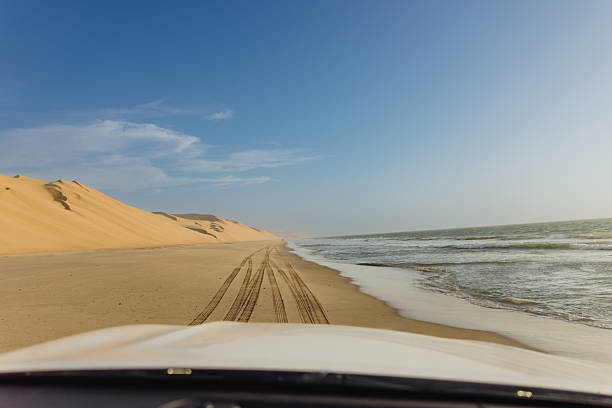vehicle_track: (189, 249, 259, 324), (285, 262, 328, 323), (271, 261, 313, 322), (286, 263, 328, 323), (237, 247, 270, 321), (224, 259, 252, 320), (267, 262, 287, 322)
